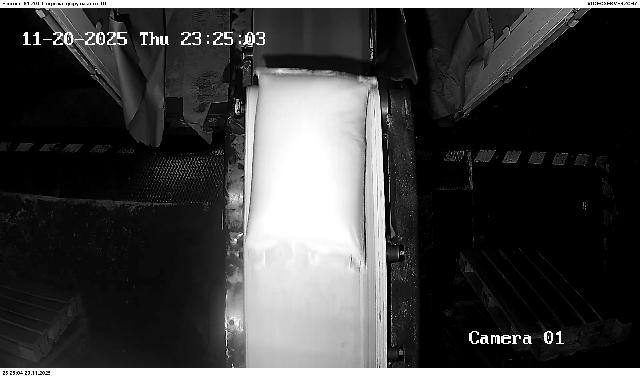bag: (245, 68, 377, 271)
